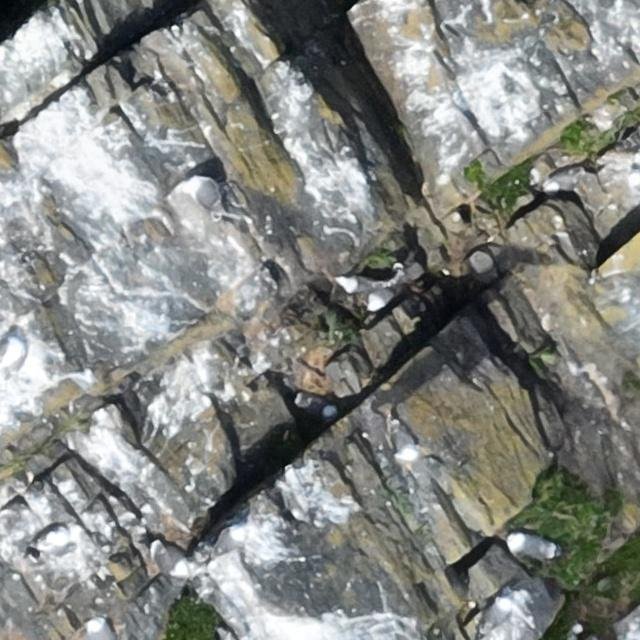umineko: (150, 538, 189, 579), (186, 176, 226, 215), (476, 598, 514, 636), (390, 420, 417, 459), (511, 535, 554, 558), (369, 284, 402, 312), (2, 338, 26, 373), (297, 396, 333, 417), (87, 616, 114, 640), (546, 170, 576, 190), (341, 276, 374, 292)
